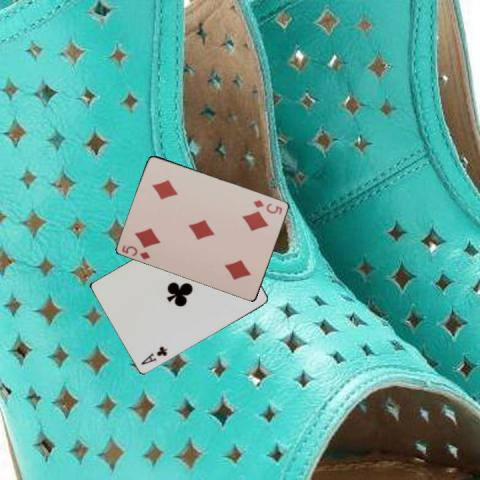5d: (250, 197, 284, 216), (120, 242, 152, 261)
Ac: (138, 344, 169, 367)
